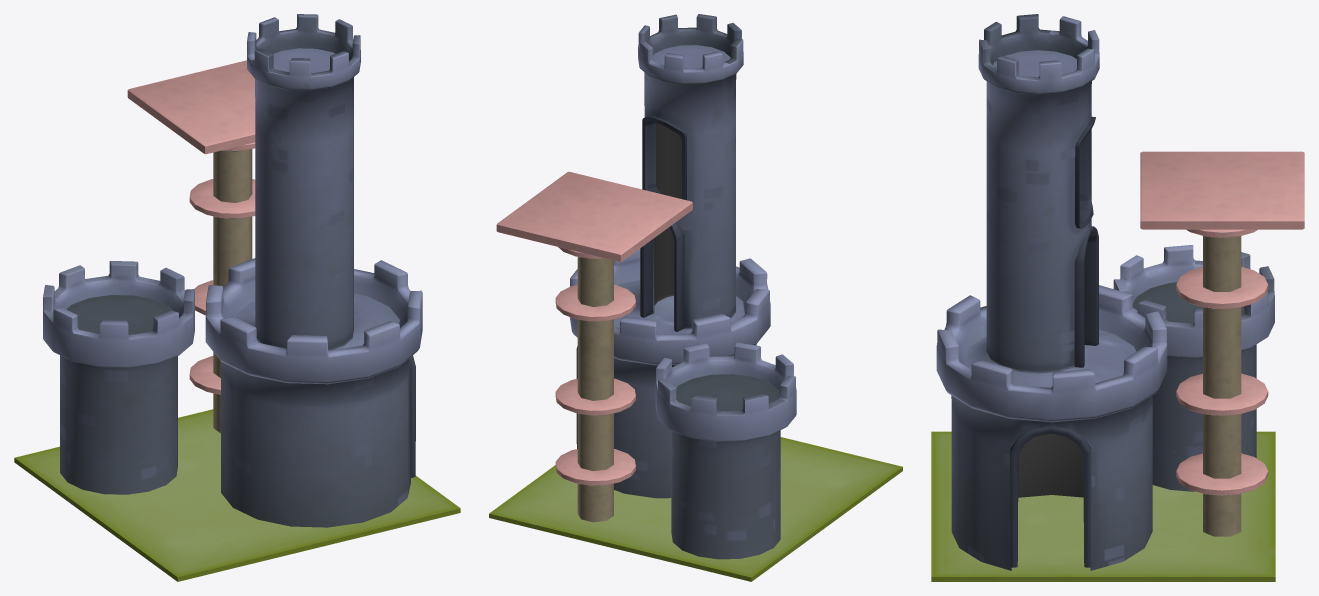
File: MDL_ 1_ TowerCannon.fbx
The picture shows the model from 3 angles, left to right: view 1: azimuth 30°, elevation 25°; view 2: azimuth 150°, elevation 25°; view 3: azimuth 270°, elevation 25°; orthographic projection. The views are drawn at different scales.
Parts seen in each view (by area): view 1: G_1_TowerCannon; view 2: G_1_TowerCannon; view 3: G_1_TowerCannon.
Part boxes in pixels (box(x1,y1,x2,y2)): G_1_TowerCannon: box(14, 14, 460, 581); G_1_TowerCannon: box(489, 14, 902, 581); G_1_TowerCannon: box(931, 14, 1304, 581).
Size of the model in its own units: 204 by 313 by 217.
